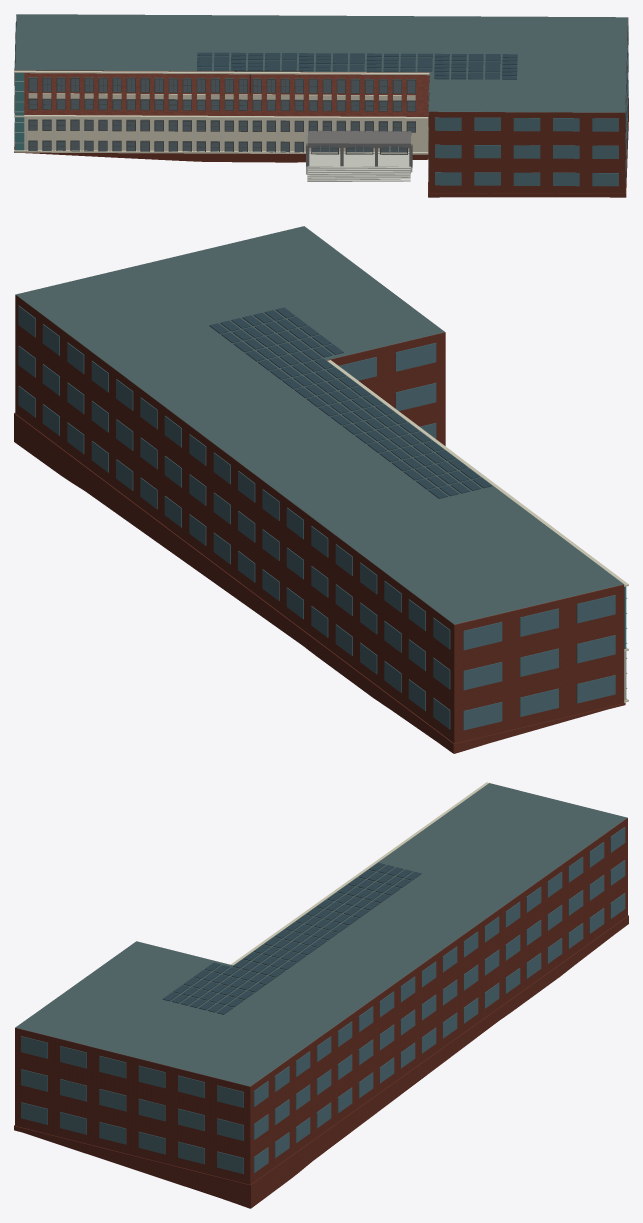
Rendered from fragments.glb.
The picture shows the model from 3 angles, top to bottom: view 1: azimuth 30°, elevation 25°; view 2: azimuth 150°, elevation 25°; view 3: azimuth 270°, elevation 25°; orthographic projection. The views are drawn at different scales.
Parts seen in each view (by area): view 1: SM_468931909_Fragment_056, SM_468931909_Fragment_007, SM_468931909_Fragment_028, SM_468931909_Fragment_043, SM_468931909_Fragment_020, SM_468931909_Fragment_047, SM_468931909_Fragment_026, SM_468931909_Fragment_009, SM_468931909_Fragment_003, SM_468931909_Fragment_063, SM_468931909_Fragment_034, SM_468931909_Fragment_014 (+26 smaller); view 2: SM_468931909_Fragment_009, SM_468931909_Fragment_052, SM_468931909_Fragment_018, SM_468931909_Fragment_005, SM_468931909_Fragment_031, SM_468931909_Fragment_030, SM_468931909_Fragment_011, SM_468931909_Fragment_041, SM_468931909_Fragment_019, SM_468931909_Fragment_015, SM_468931909_Fragment_047, SM_468931909_Fragment_023 (+26 smaller); view 3: SM_468931909_Fragment_019, SM_468931909_Fragment_012, SM_468931909_Fragment_053, SM_468931909_Fragment_054, SM_468931909_Fragment_005, SM_468931909_Fragment_030, SM_468931909_Fragment_031, SM_468931909_Fragment_011, SM_468931909_Fragment_015, SM_468931909_Fragment_003, SM_468931909_Fragment_023, SM_468931909_Fragment_001 (+28 smaller).
Part boxes in pixels (left/top/right/bottom): SM_468931909_Fragment_056: left=14, top=99, right=428, bottom=162; SM_468931909_Fragment_007: left=14, top=46, right=429, bottom=115; SM_468931909_Fragment_028: left=70, top=45, right=166, bottom=115; SM_468931909_Fragment_043: left=307, top=64, right=411, bottom=166; SM_468931909_Fragment_020: left=492, top=82, right=596, bottom=158; SM_468931909_Fragment_047: left=428, top=94, right=501, bottom=176; SM_468931909_Fragment_026: left=244, top=45, right=337, bottom=114; SM_468931909_Fragment_009: left=14, top=41, right=74, bottom=150; SM_468931909_Fragment_003: left=553, top=105, right=626, bottom=197; SM_468931909_Fragment_063: left=439, top=139, right=540, bottom=197; SM_468931909_Fragment_034: left=306, top=146, right=412, bottom=181; SM_468931909_Fragment_014: left=468, top=50, right=559, bottom=95; SM_468931909_Fragment_009: left=520, top=553, right=627, bottom=699; SM_468931909_Fragment_052: left=433, top=648, right=558, bottom=753; SM_468931909_Fragment_018: left=390, top=596, right=509, bottom=709; SM_468931909_Fragment_005: left=276, top=489, right=392, bottom=650; SM_468931909_Fragment_031: left=173, top=403, right=314, bottom=524; SM_468931909_Fragment_030: left=85, top=343, right=184, bottom=464; SM_468931909_Fragment_011: left=53, top=309, right=184, bottom=450; SM_468931909_Fragment_041: left=442, top=550, right=542, bottom=652; SM_468931909_Fragment_019: left=15, top=269, right=158, bottom=358; SM_468931909_Fragment_015: left=310, top=512, right=409, bottom=634; SM_468931909_Fragment_047: left=369, top=295, right=445, bottom=426; SM_468931909_Fragment_023: left=223, top=441, right=314, bottom=531; SM_468931909_Fragment_019: left=163, top=1037, right=290, bottom=1131; SM_468931909_Fragment_012: left=87, top=1022, right=216, bottom=1127; SM_468931909_Fragment_053: left=202, top=1093, right=289, bottom=1208; SM_468931909_Fragment_054: left=22, top=1014, right=150, bottom=1094; SM_468931909_Fragment_005: left=438, top=887, right=523, bottom=1034; SM_468931909_Fragment_030: left=276, top=998, right=373, bottom=1094; SM_468931909_Fragment_031: left=344, top=935, right=436, bottom=1035; SM_468931909_Fragment_011: left=215, top=1024, right=331, bottom=1127; SM_468931909_Fragment_015: left=472, top=861, right=562, bottom=945; SM_468931909_Fragment_003: left=14, top=1016, right=86, bottom=1129; SM_468931909_Fragment_023: left=375, top=917, right=483, bottom=995; SM_468931909_Fragment_001: left=160, top=1116, right=238, bottom=1204.
Bounding box in the file's own units: 2.2 × 0.4112 × 1.87.
Materials: 15 (2 with a texture image).
